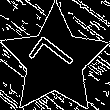L_SE: (27, 33, 83, 88)
